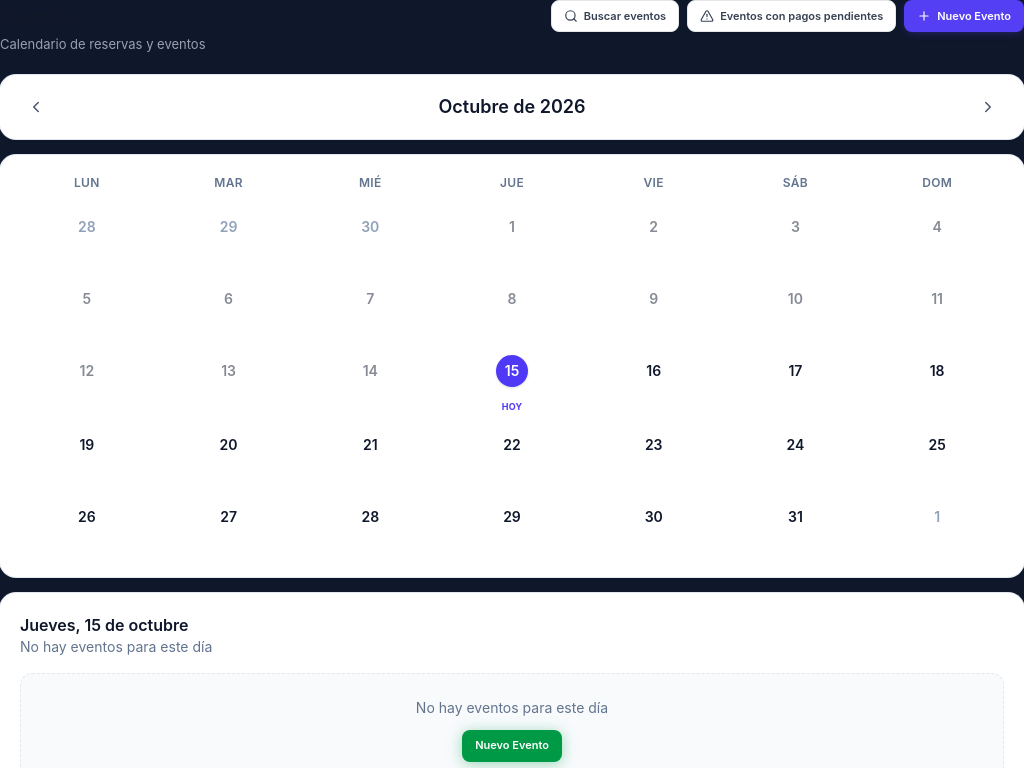
it: EventosPage › allows searching and selecting a client
The width and height of the screenshot is (1024, 768).
Click the 1st button "Nuevo Evento": (964, 16) [904,0,1023,32]
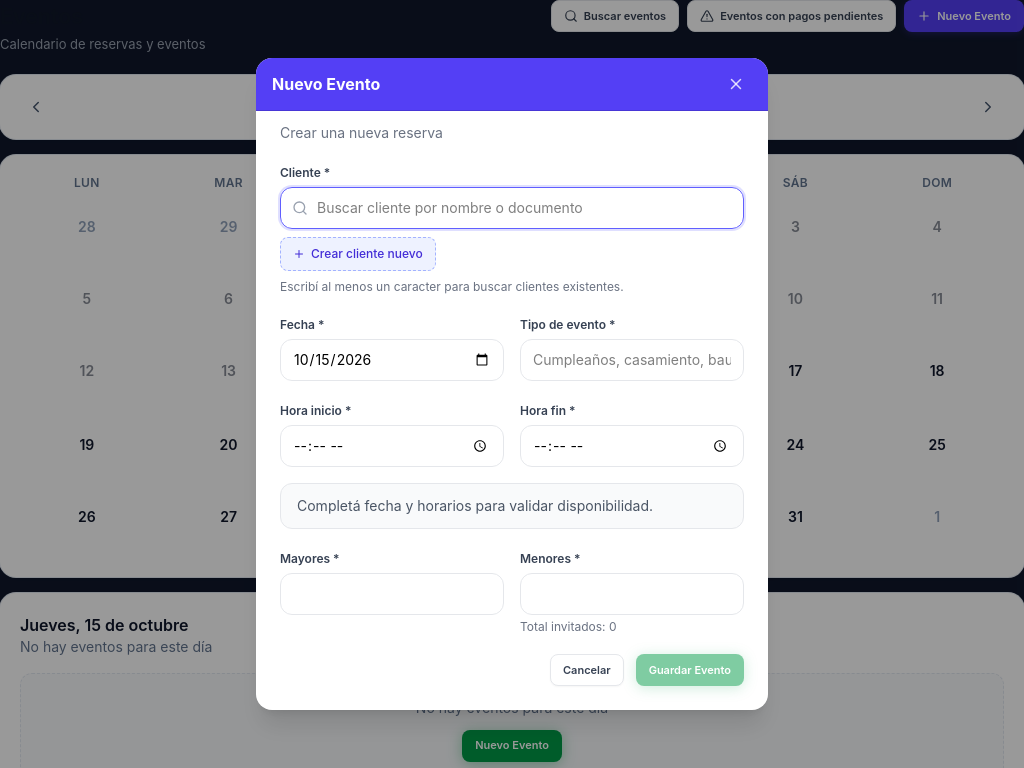
In the field with placeholder "Buscar cliente por nombre o documento": (512, 208) [280,187,744,229], type "Cli"
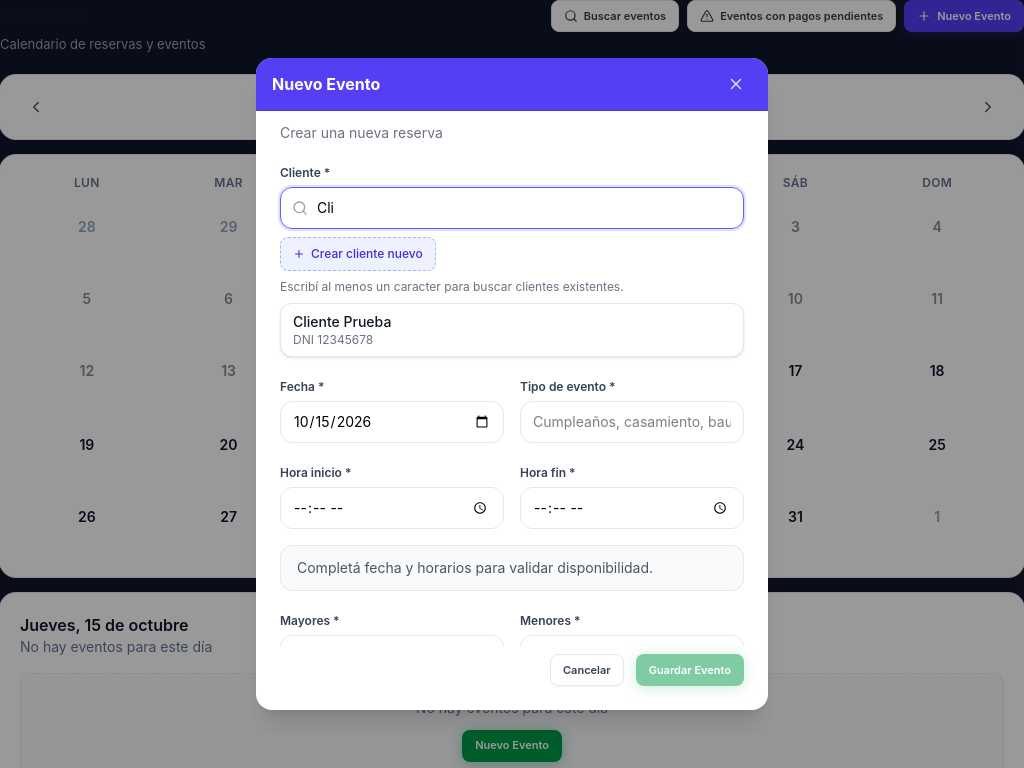
Click the button "Cliente Prueba DNI 12345678": (342, 321) [281,304,743,356]
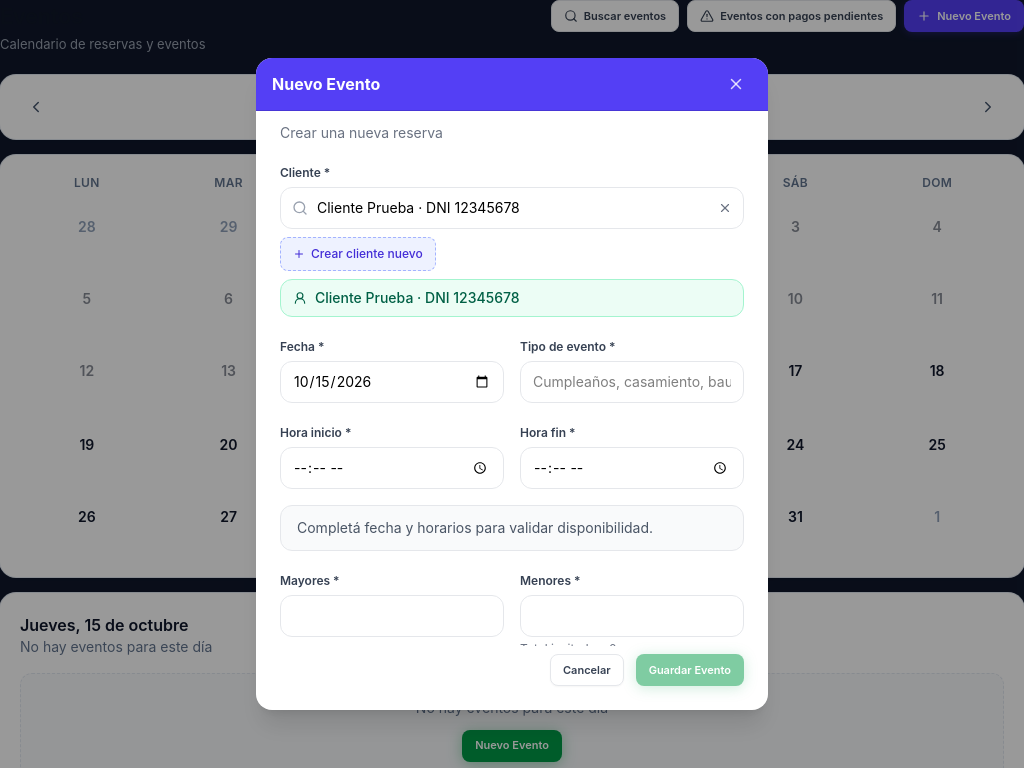
Expected: the text "Cliente Prueba · DNI 12345678" is shown, [315,288,520,308]
Expected: the field showing "Cliente Prueba · DNI 12345678" is shown, [280,187,744,229]
